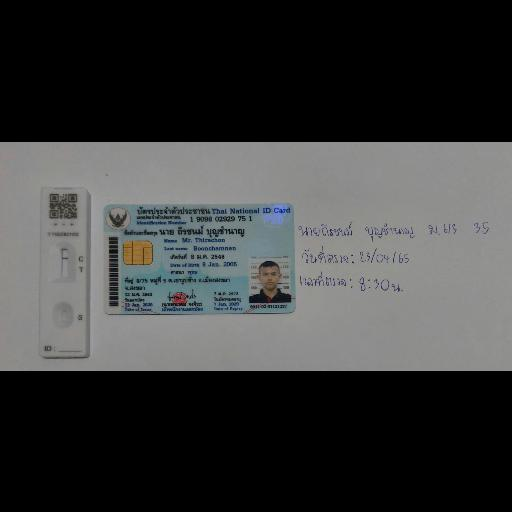Neg: (40, 188, 84, 356)
